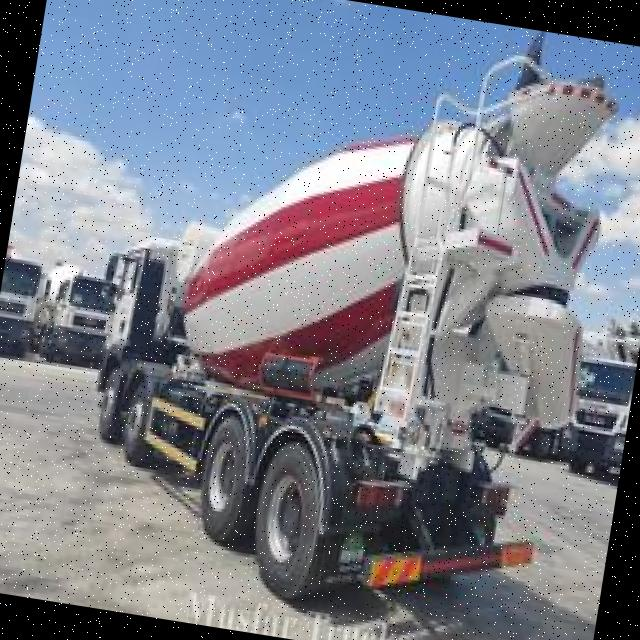Mixer Truck: (55, 0, 638, 640), (27, 256, 125, 372), (558, 344, 639, 482), (0, 236, 48, 359)
